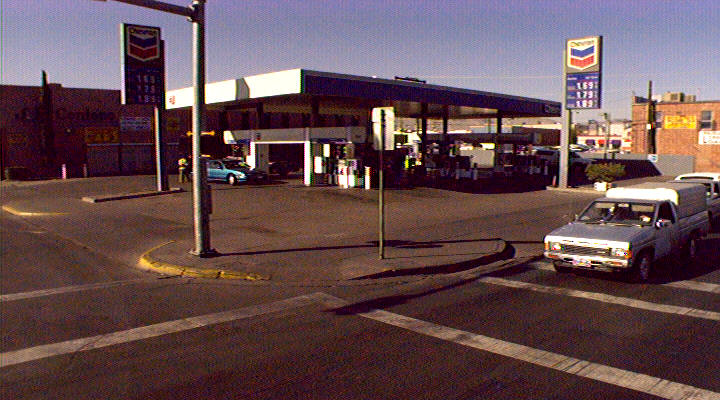Ramp: (233, 247, 398, 293)
